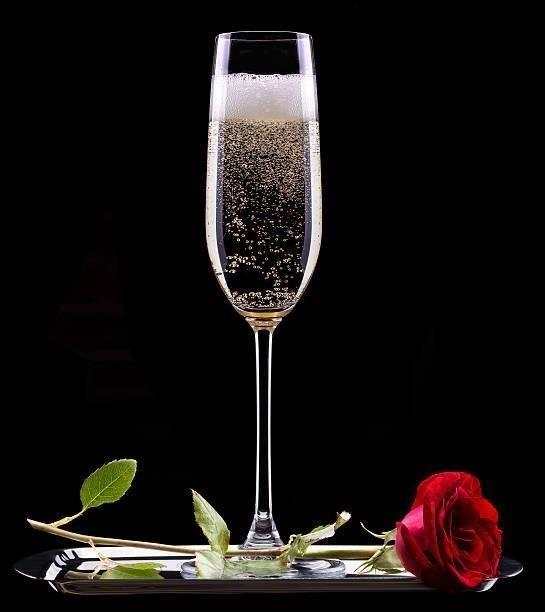glass-wine: (193, 27, 338, 558)
